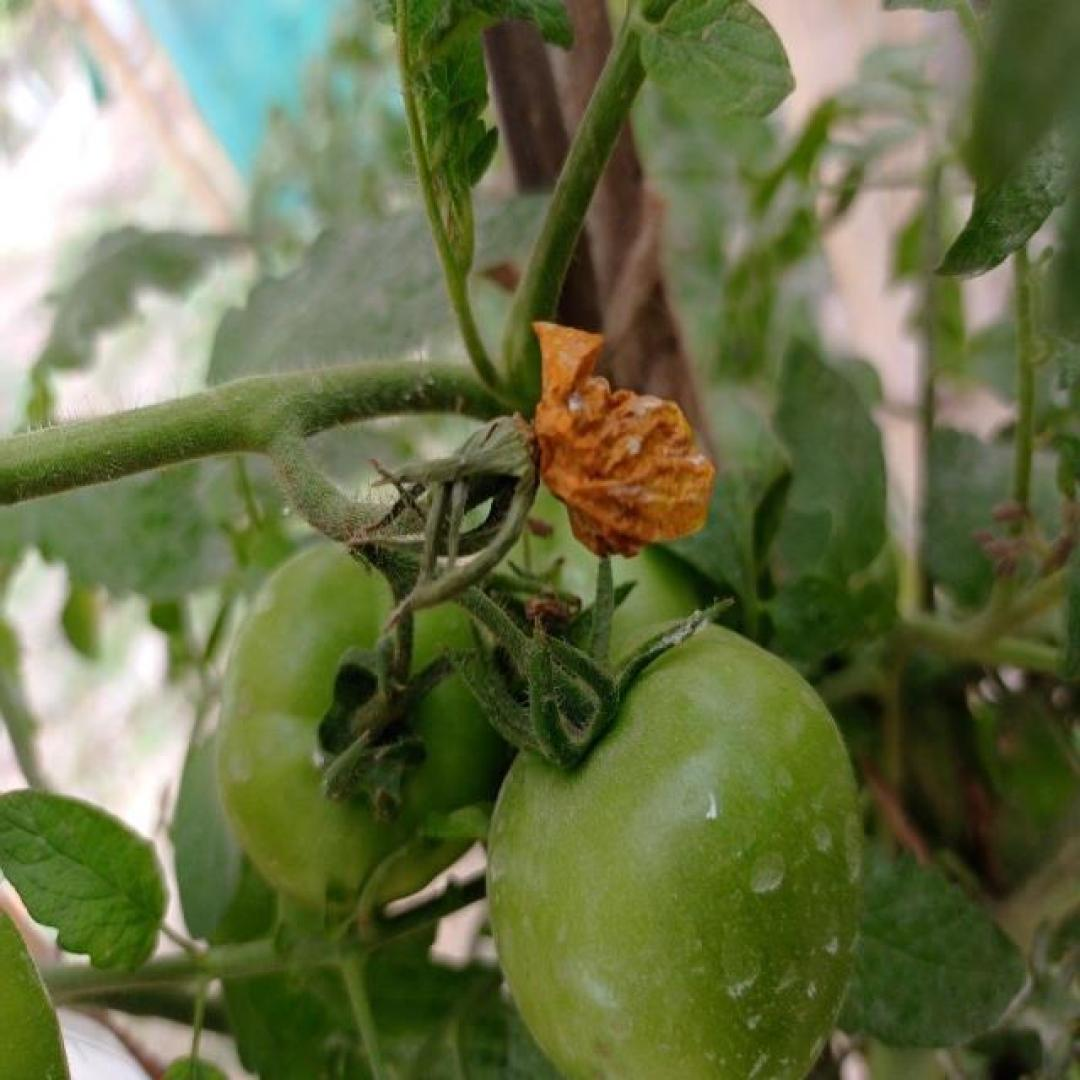mentah: (481, 616, 864, 1080), (211, 532, 523, 916)
